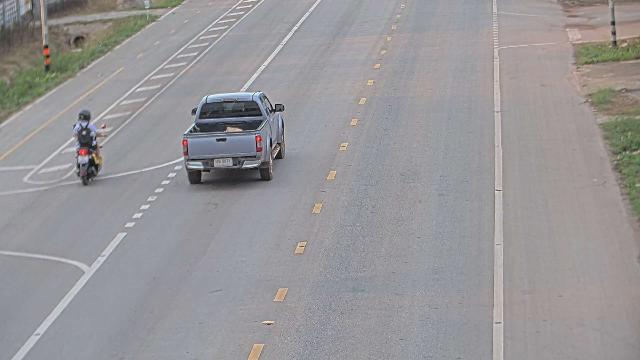motorcycle: (68, 120, 106, 188)
pickup-truck: (181, 90, 286, 184)
